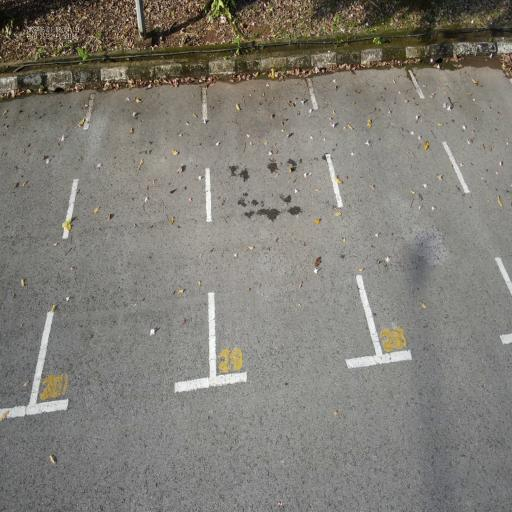Empty: (24, 72, 218, 425), (197, 72, 387, 390)
